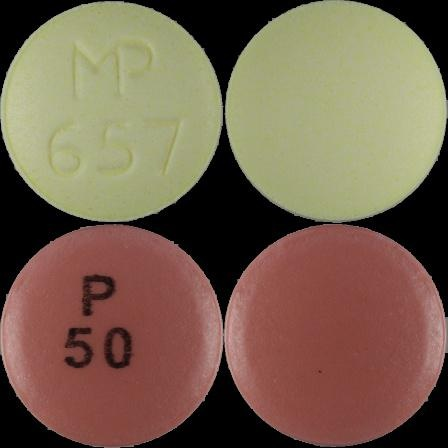35356-723: (0, 0, 224, 224)
